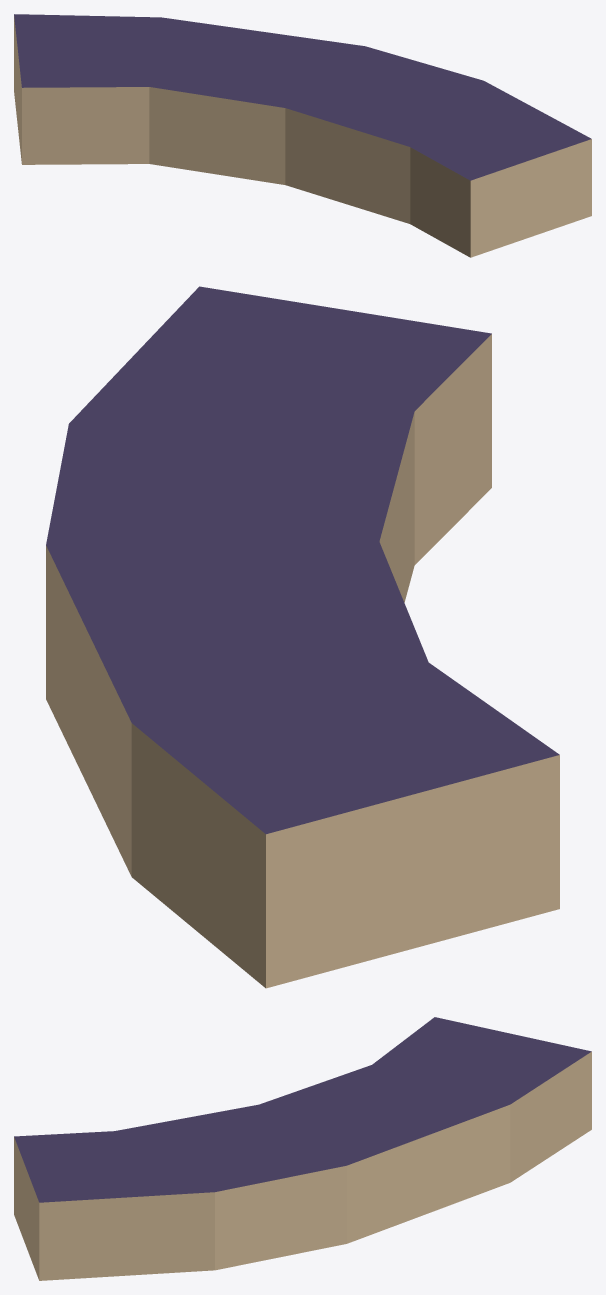
The model's file is b-110-day.glb.
The picture shows the model from 3 angles, top to bottom: view 1: azimuth 30°, elevation 25°; view 2: azimuth 150°, elevation 25°; view 3: azimuth 270°, elevation 25°; orthographic projection. The views are drawn at different scales.
Visible parts, largest first — view 1: campus/b-110-day-0; view 2: campus/b-110-day-0; view 3: campus/b-110-day-0.
Boxes of the visible parts, x1,y1,x2,y2 form: campus/b-110-day-0: [14, 14, 591, 257]; campus/b-110-day-0: [46, 286, 559, 988]; campus/b-110-day-0: [14, 1017, 591, 1280].
Size of the model in its own units: 15.28 by 3 by 20.09.
